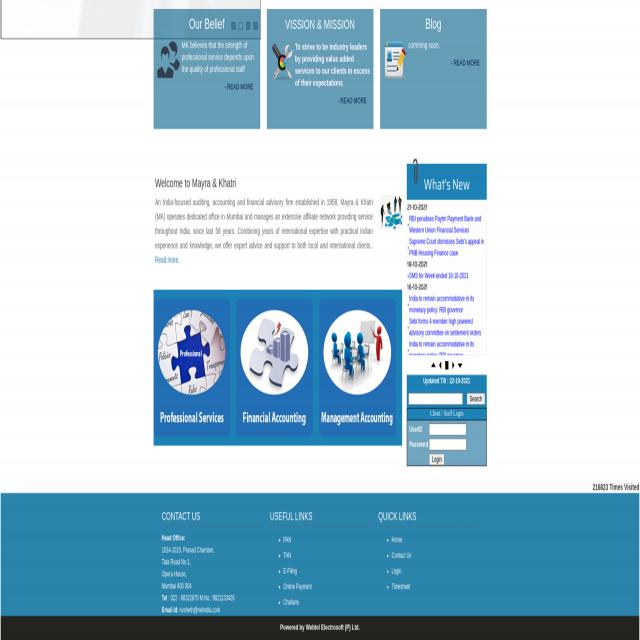button: (319, 299, 396, 436), (154, 300, 230, 437), (237, 299, 313, 436), (270, 40, 294, 83), (383, 39, 407, 81), (379, 195, 407, 230), (157, 39, 180, 81), (467, 393, 485, 405), (430, 454, 444, 465), (430, 360, 436, 371), (437, 360, 443, 371), (450, 360, 456, 371), (457, 360, 463, 371), (445, 360, 449, 371)
field: (408, 393, 463, 405), (429, 424, 466, 435), (429, 439, 466, 450)
